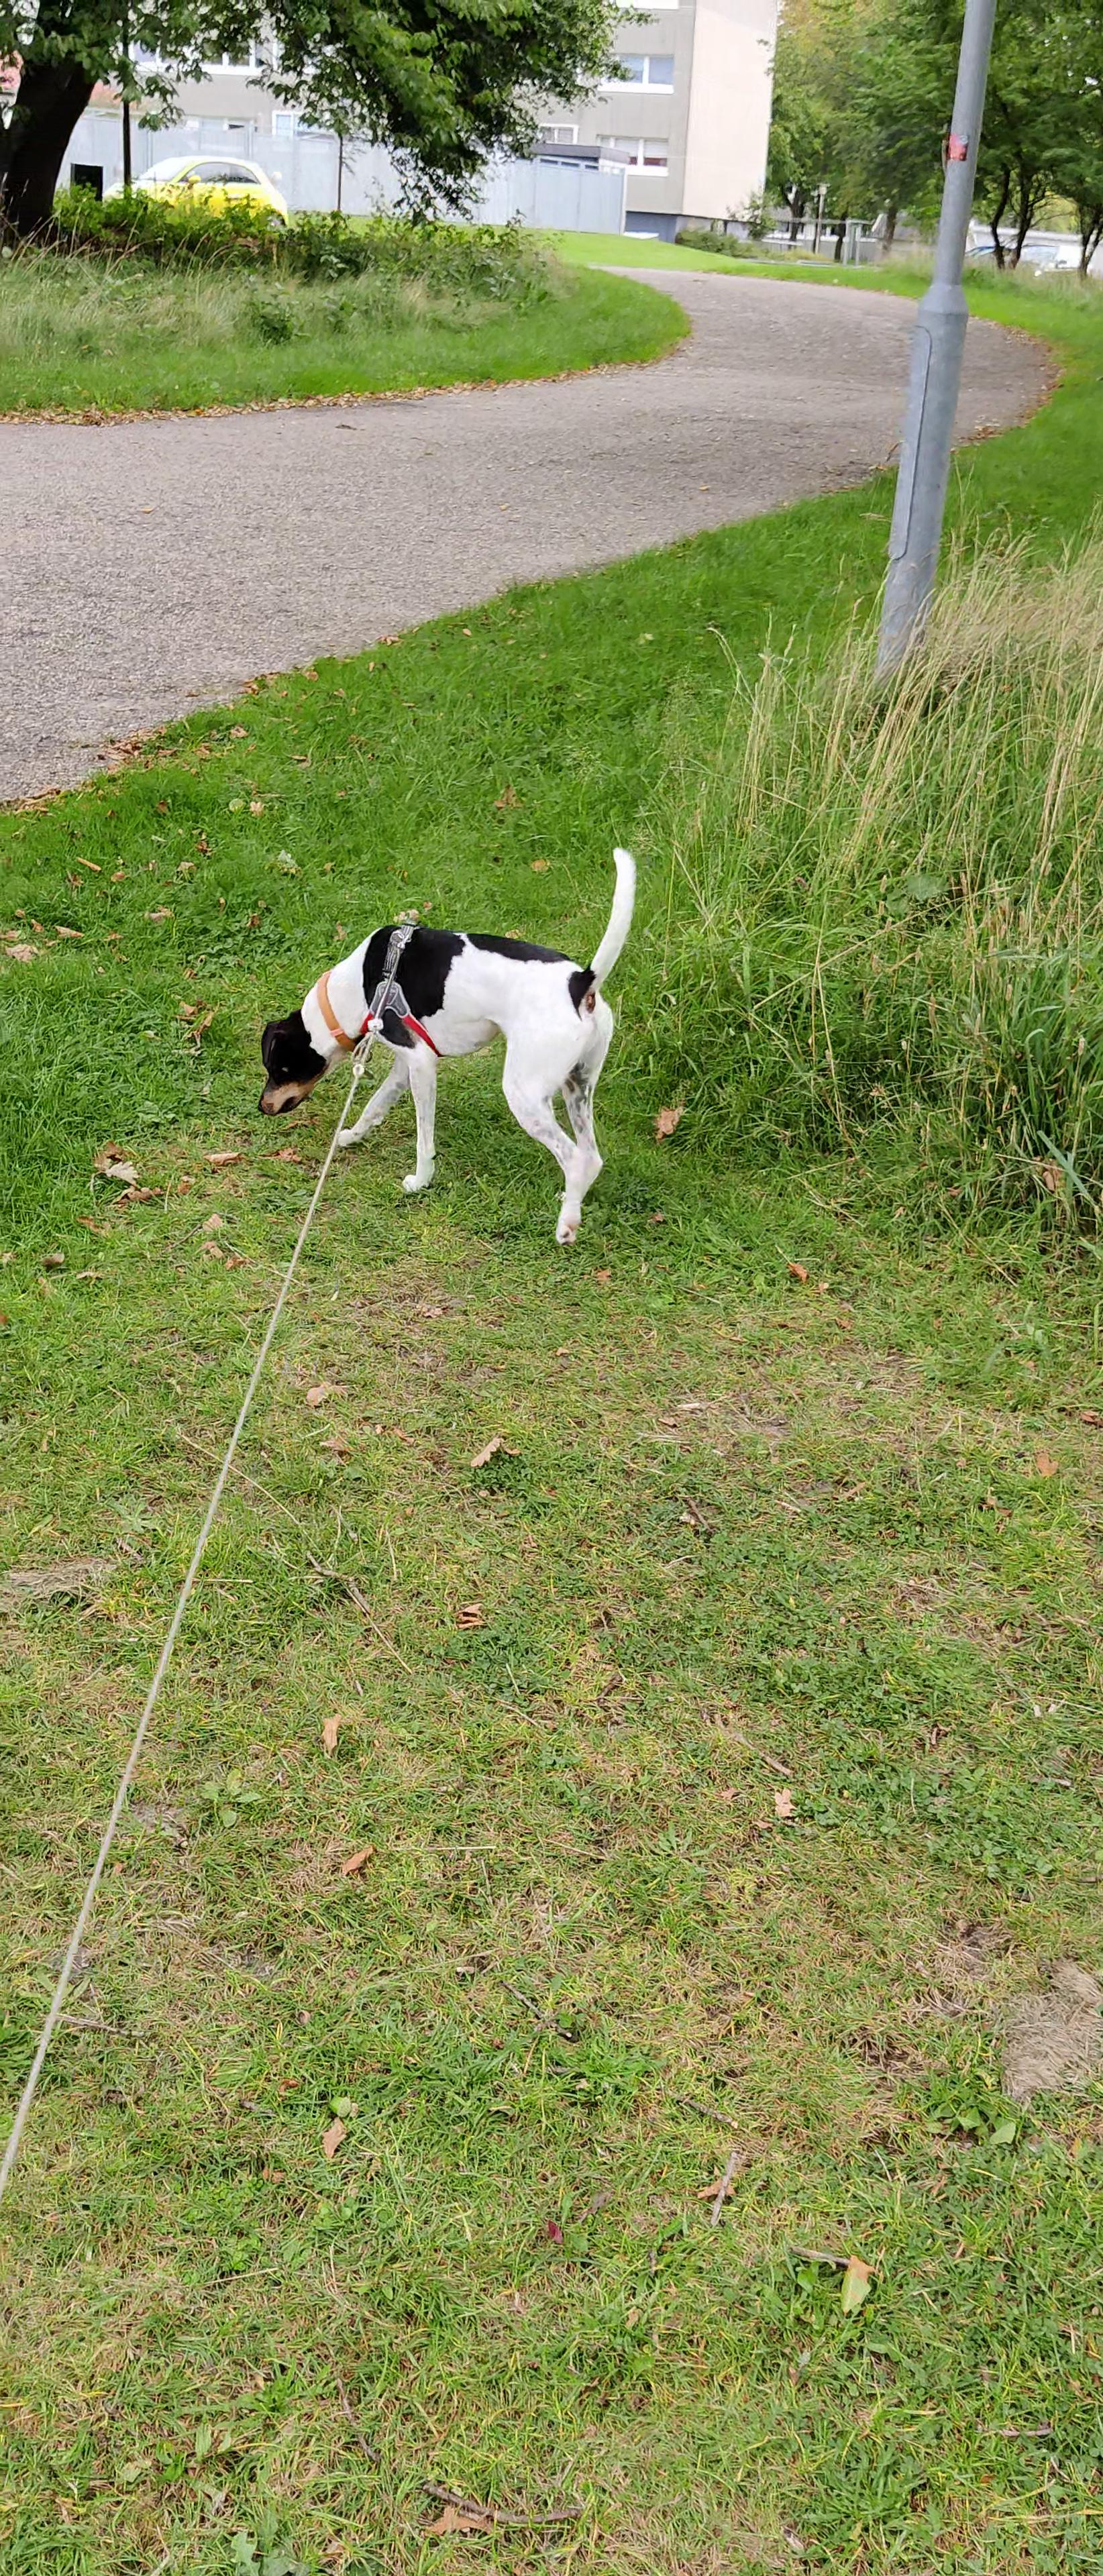Dog: (255, 833, 643, 1260)
